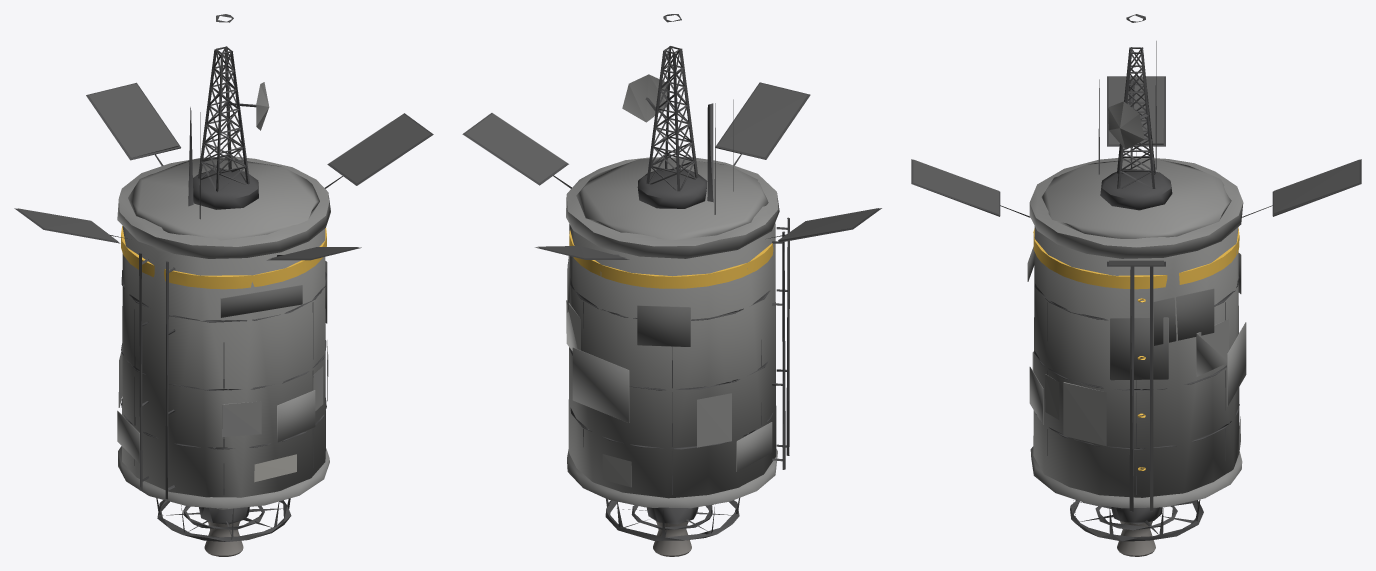
File: NavigationsbojeFern.glb
The picture shows the model from 3 angles, left to right: view 1: azimuth 30°, elevation 25°; view 2: azimuth 150°, elevation 25°; view 3: azimuth 270°, elevation 25°; orthographic projection.
Parts seen in each view (by area): view 1: Navigationsboje_lack, Navigationsboje_matt, Navigationsboje_metall; view 2: Navigationsboje_lack, Navigationsboje_matt, Navigationsboje_metall; view 3: Navigationsboje_lack, Navigationsboje_matt, Navigationsboje_metall.
Part boxes in pixels (bbox=[...]): Navigationsboje_lack: bbox=[14, 14, 433, 541]; Navigationsboje_matt: bbox=[121, 226, 326, 289]; Navigationsboje_metall: bbox=[204, 521, 243, 556]; Navigationsboje_lack: bbox=[462, 14, 881, 540]; Navigationsboje_matt: bbox=[569, 230, 773, 288]; Navigationsboje_metall: bbox=[653, 521, 691, 556]; Navigationsboje_lack: bbox=[911, 14, 1361, 541]; Navigationsboje_matt: bbox=[1033, 227, 1239, 470]; Navigationsboje_metall: bbox=[1117, 521, 1155, 556].
Bounding box in the file's own units: 4.6 × 5.99 × 4.6.
